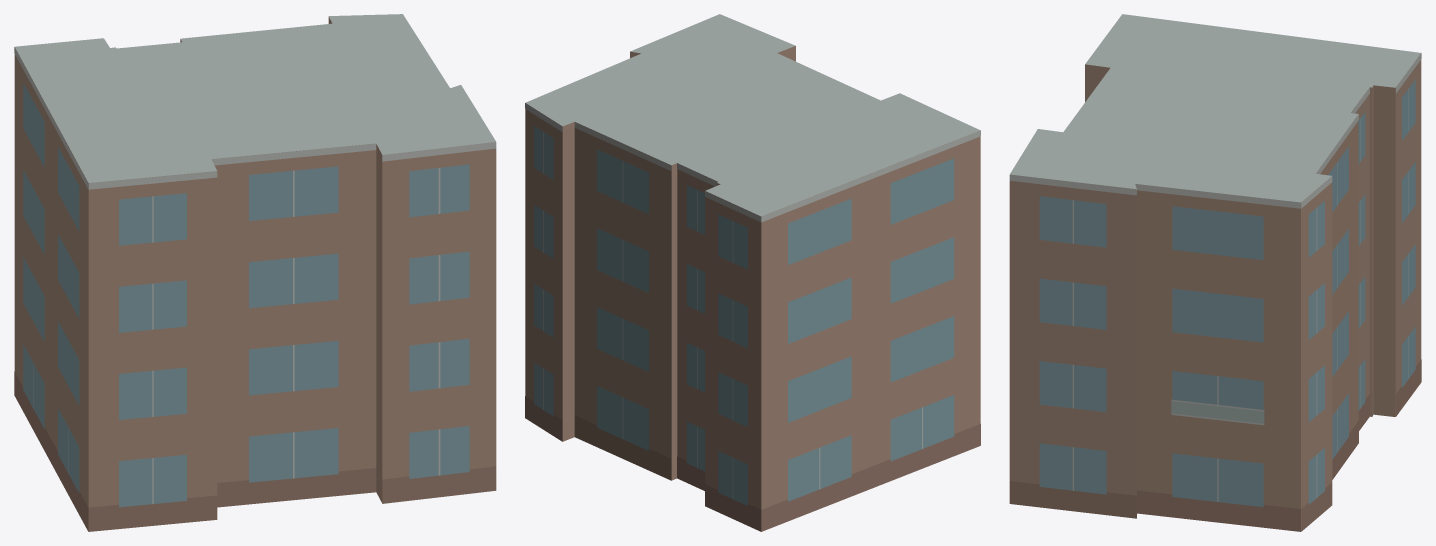
The model's file is survey-upis-32640082.glb.
3 renders of one model, left to right at view 1: azimuth 30°, elevation 25°; view 2: azimuth 150°, elevation 25°; view 3: azimuth 270°, elevation 25°, orthographic. The views are drawn at different scales.
Parts seen in each view (by area): view 1: survey-upis-32640082.tmp; view 2: survey-upis-32640082.tmp; view 3: survey-upis-32640082.tmp.
Part boxes in pixels (box(x1,y1,x2,y2)): survey-upis-32640082.tmp: box(14, 14, 496, 531); survey-upis-32640082.tmp: box(525, 14, 980, 531); survey-upis-32640082.tmp: box(1009, 14, 1421, 531).
Bounding box in the file's own units: 15.84 × 12.9 × 14.63.
